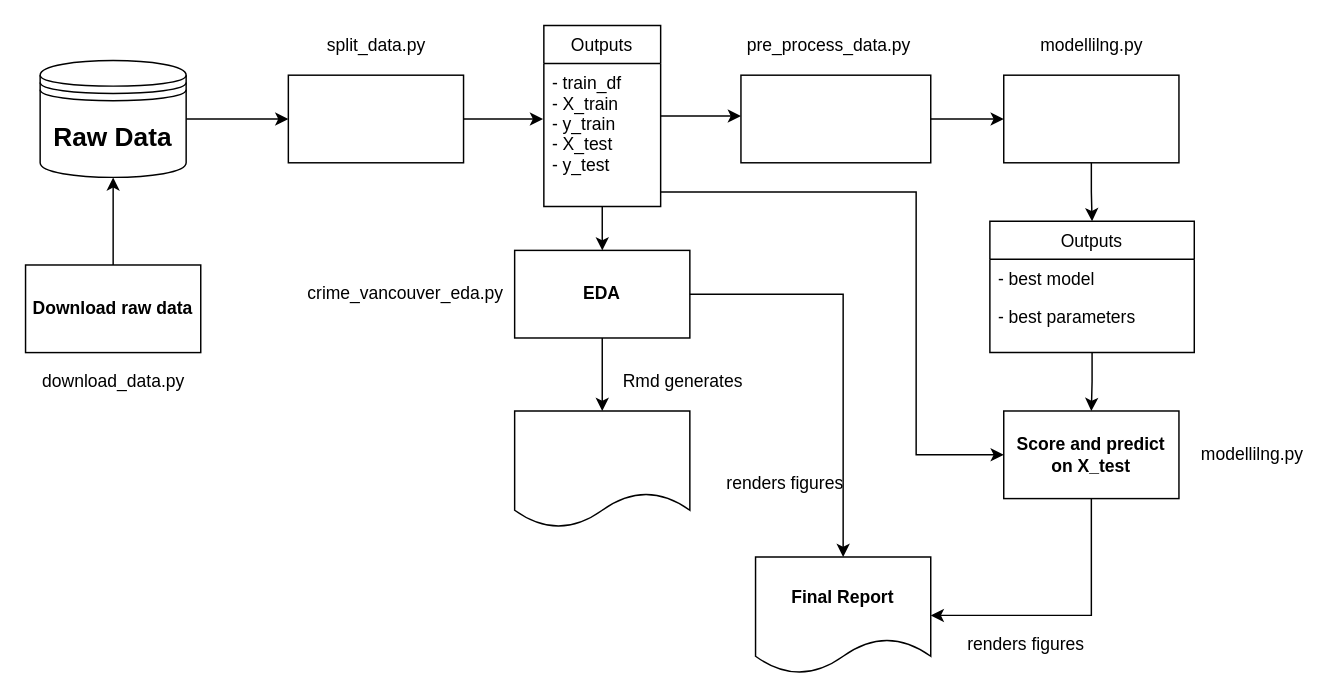
Image size: 1343x699. Some labels were removed from this diagram. The centre of each missing label's shape, as x and y in pixels:
"Create column transformation object" goes at point (835, 118).
"EDA Report" goes at point (601, 469).
"Split data and data cleaning" goes at point (375, 118).
"Training / hyperparameter tunning" goes at point (1090, 118).
